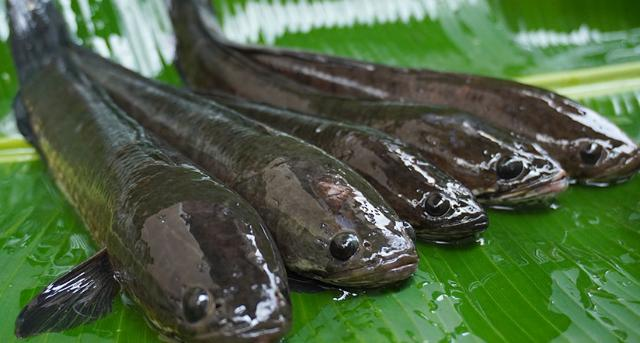Mulut: (333, 237, 435, 306), (498, 151, 576, 216), (197, 302, 305, 343), (439, 200, 506, 242), (586, 132, 640, 178)
Sirip Dada: (8, 239, 130, 343)
